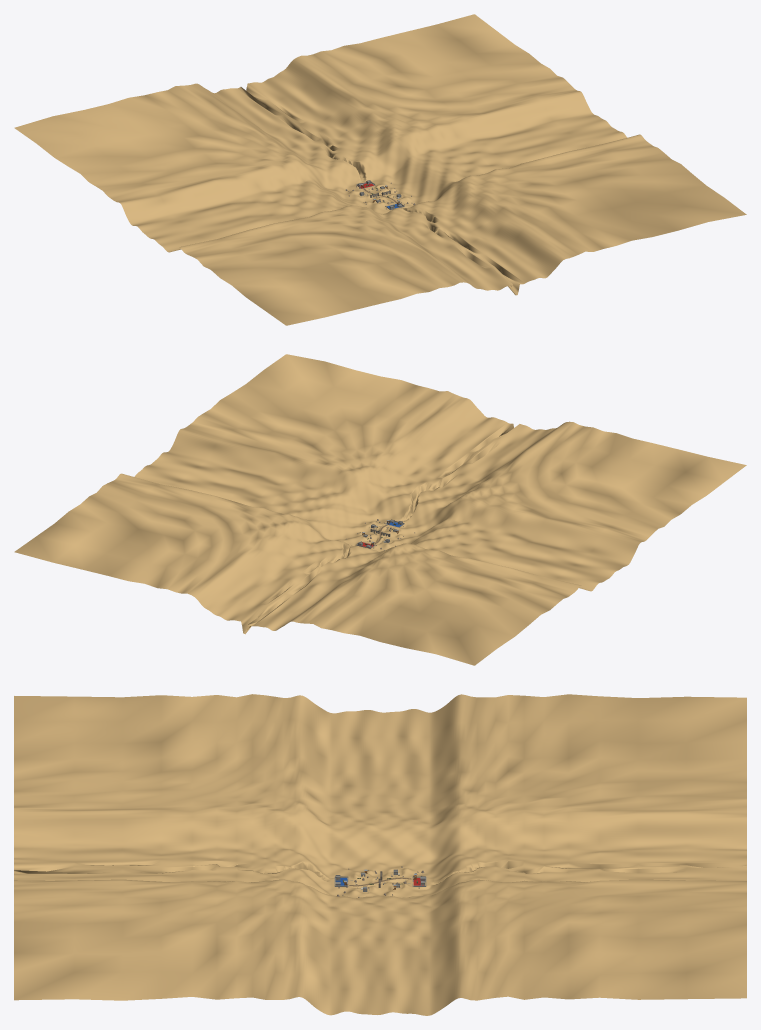
The model's file is Marib_Desert.glb.
The picture shows the model from 3 angles, top to bottom: view 1: azimuth 30°, elevation 25°; view 2: azimuth 150°, elevation 25°; view 3: azimuth 270°, elevation 25°; orthographic projection. The views are drawn at different scales.
Parts seen in each view (by area): view 1: Terrain; view 2: Terrain; view 3: Terrain.
Boxes of the visible parts, x1=… form: Terrain: x1=14, y1=14, x2=746, y2=325; Terrain: x1=14, y1=354, x2=746, y2=665; Terrain: x1=14, y1=694, x2=746, y2=1015.
Bounding box in the file's own units: 1474 × 90.99 × 1509.
